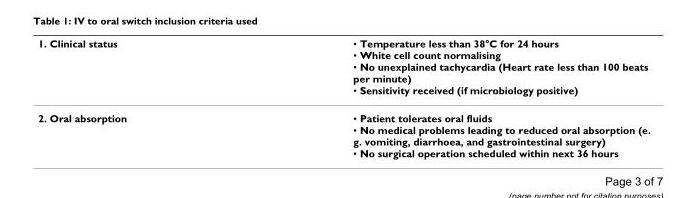table: (37, 36, 649, 158)
table column: (239, 36, 649, 158), (37, 36, 239, 158)
table column header: (37, 36, 649, 103)
table row: (37, 36, 649, 103), (37, 103, 649, 158)
